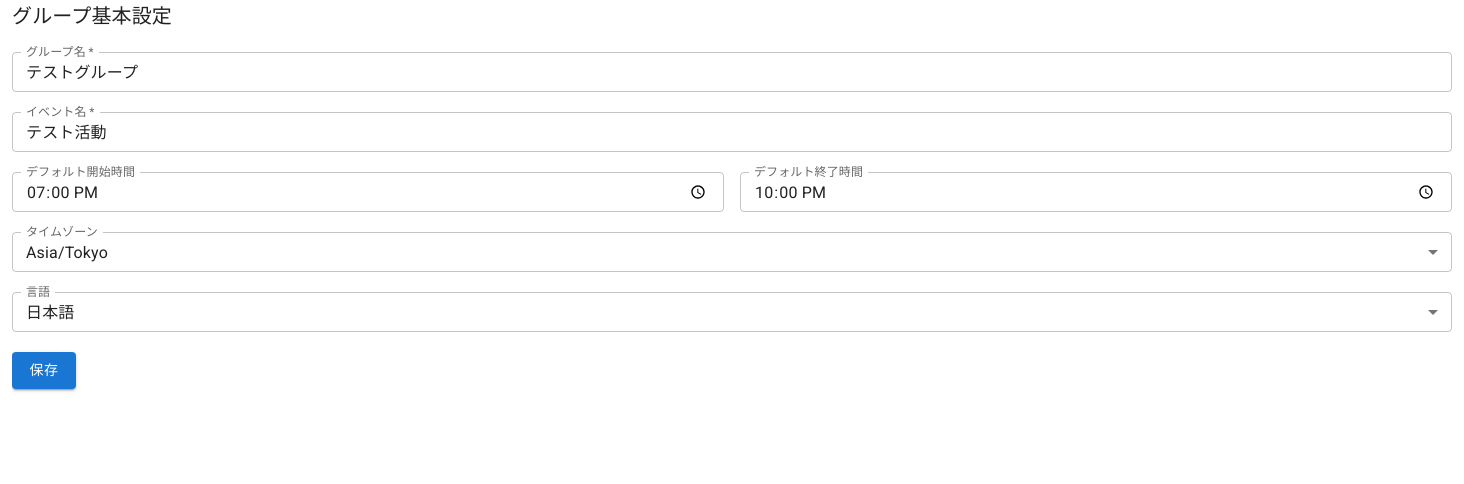
Test case: GroupSettingsForm › イベント名が空の場合はエラーが表示される
This screenshot has width=1464, height=484.
Clear the field labelled "イベント名 *": (732, 132) x1=12 y1=112 x2=1452 y2=152
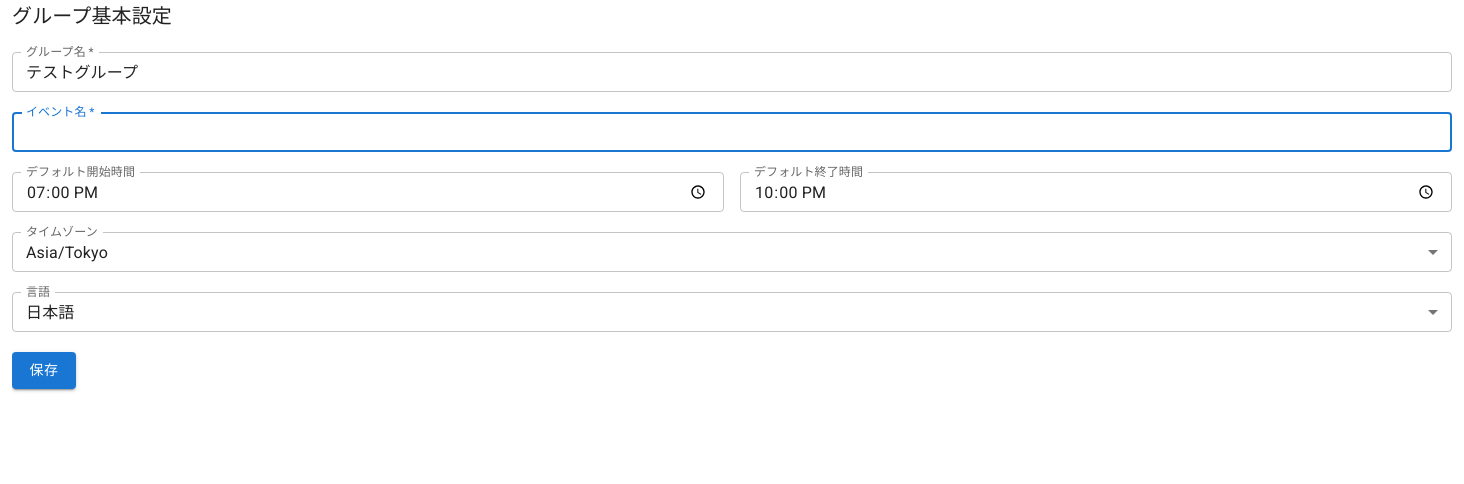
Click the button "保存": (44, 370) x1=12 y1=352 x2=76 y2=388
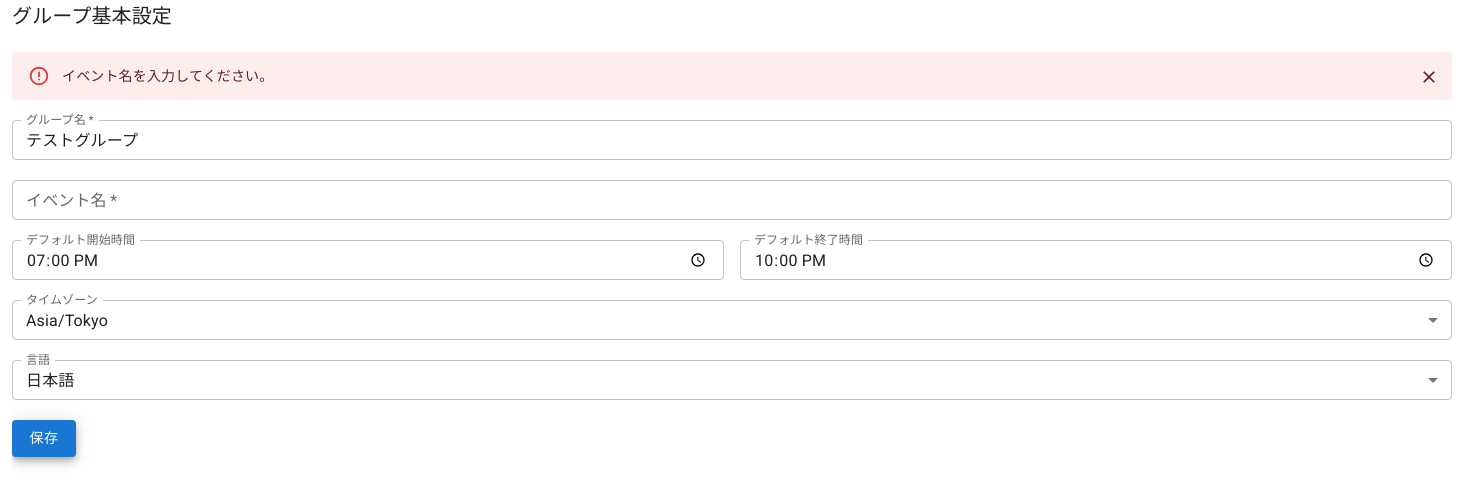
Check: the text "イベント名を入力してください。" is shown, box x1=62 y1=68 x2=273 y2=84
